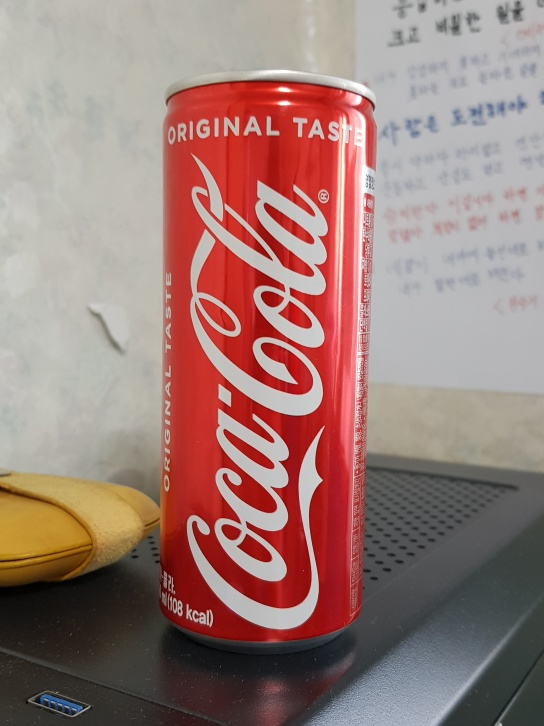Can: (158, 68, 381, 650)
